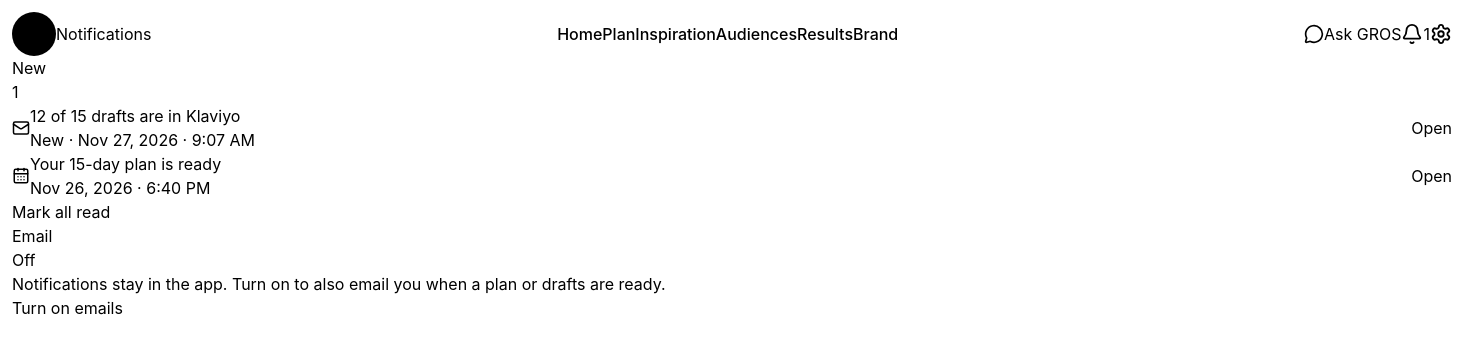
Test: NotificationsScreen (PICK-107) › marks all read with one button, only while some are new
Step 1. Click the button "Mark all read" → (61, 212), box left=12, top=200, right=110, bottom=224
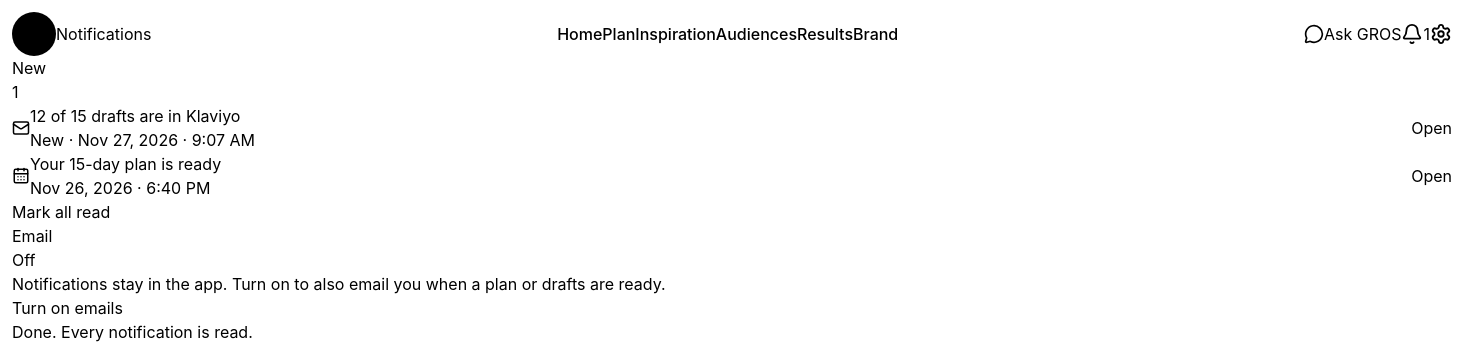
Check: the text "Done. Every notification is read." is shown, box left=12, top=322, right=253, bottom=342
